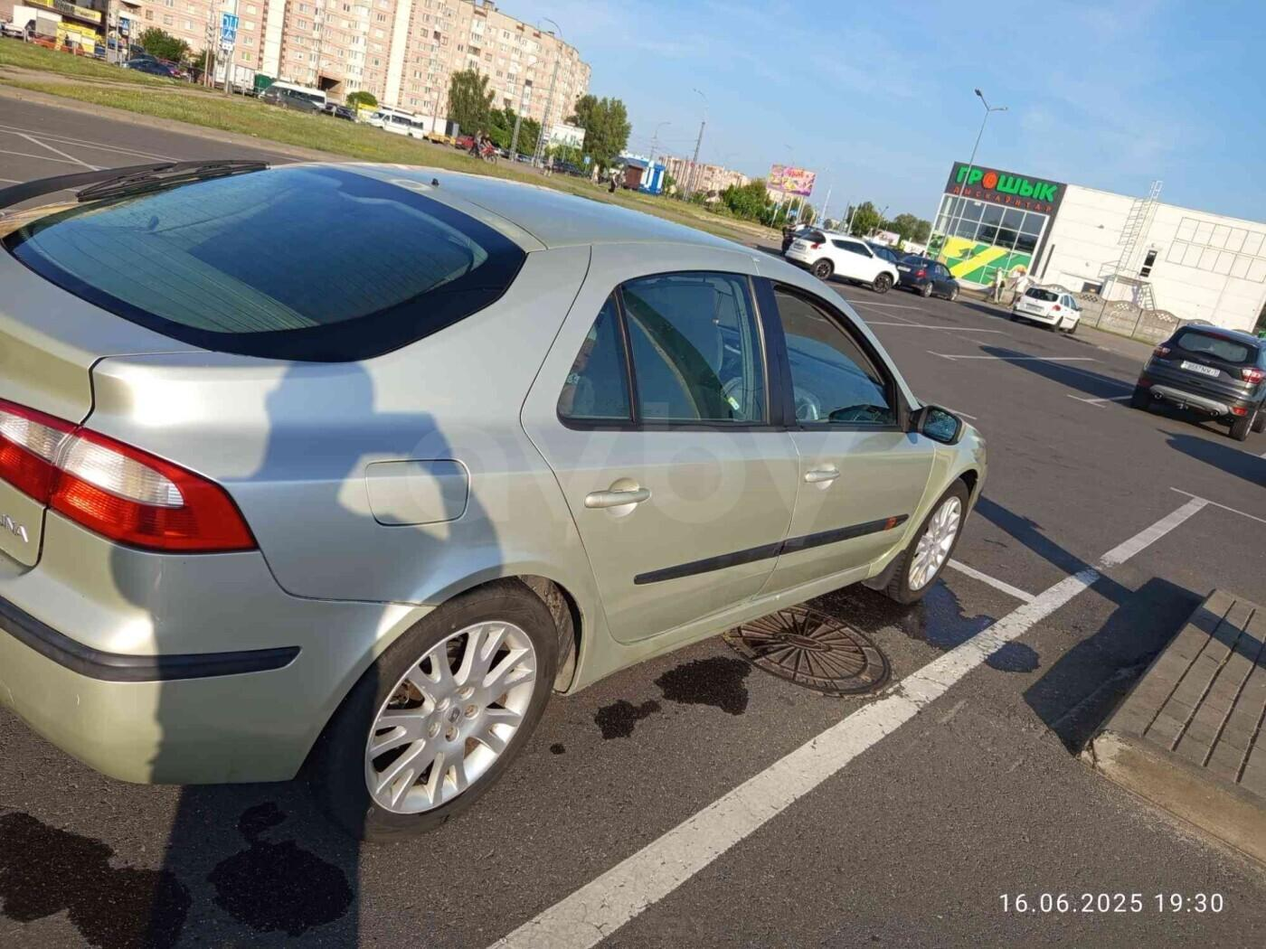Laguna_2001-2005: (0, 158, 991, 841)
